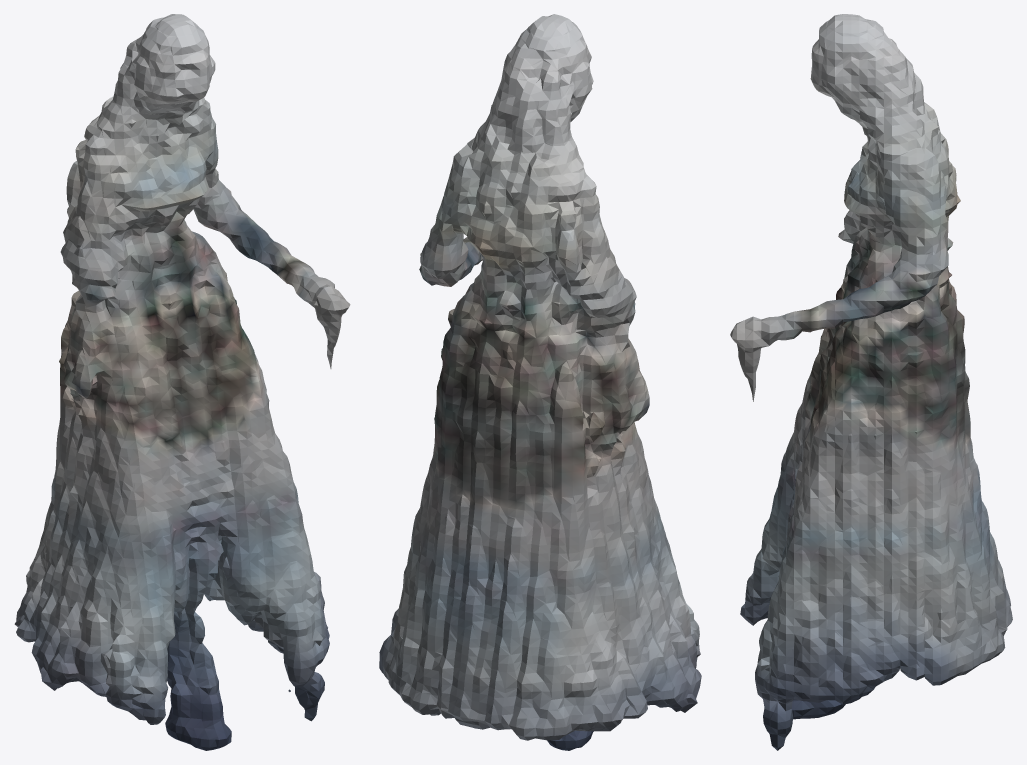
File: kazrin-triposr-v1.glb
3 views of the same model, side by side, from view 1: azimuth 30°, elevation 25°; view 2: azimuth 150°, elevation 25°; view 3: azimuth 270°, elevation 25° (orthographic). The views are drawn at different scales.
Visible parts, largest first — view 1: world; view 2: world; view 3: world.
Boxes of the visible parts, x1,y1,x2,y2 form: world: (14,14,350,750); world: (379,14,701,750); world: (730,14,1012,750).
Size of the model in its own units: 0.7138 by 1.78 by 0.6563.
